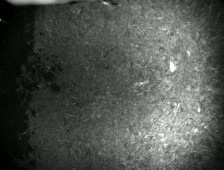corn: (167, 59, 178, 74)
